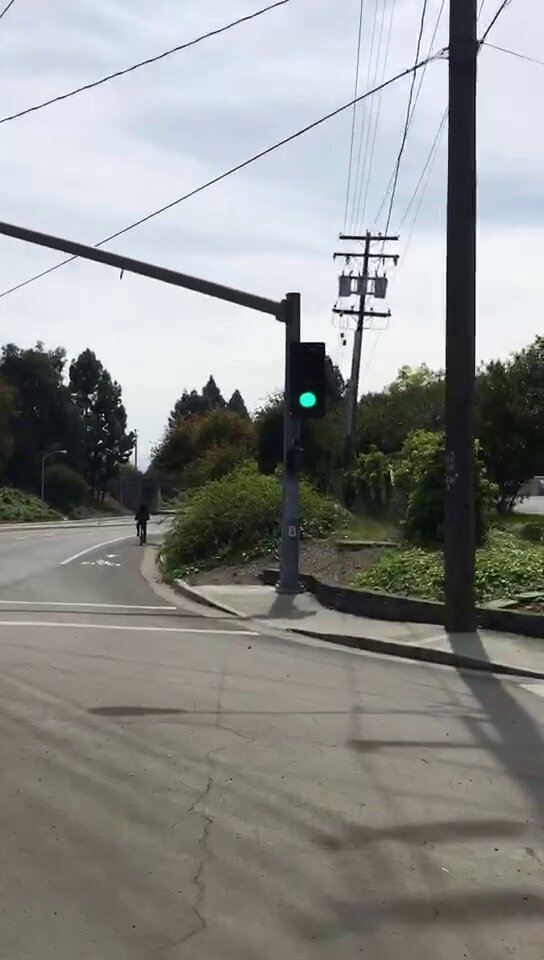green_light: (293, 345, 323, 414)
